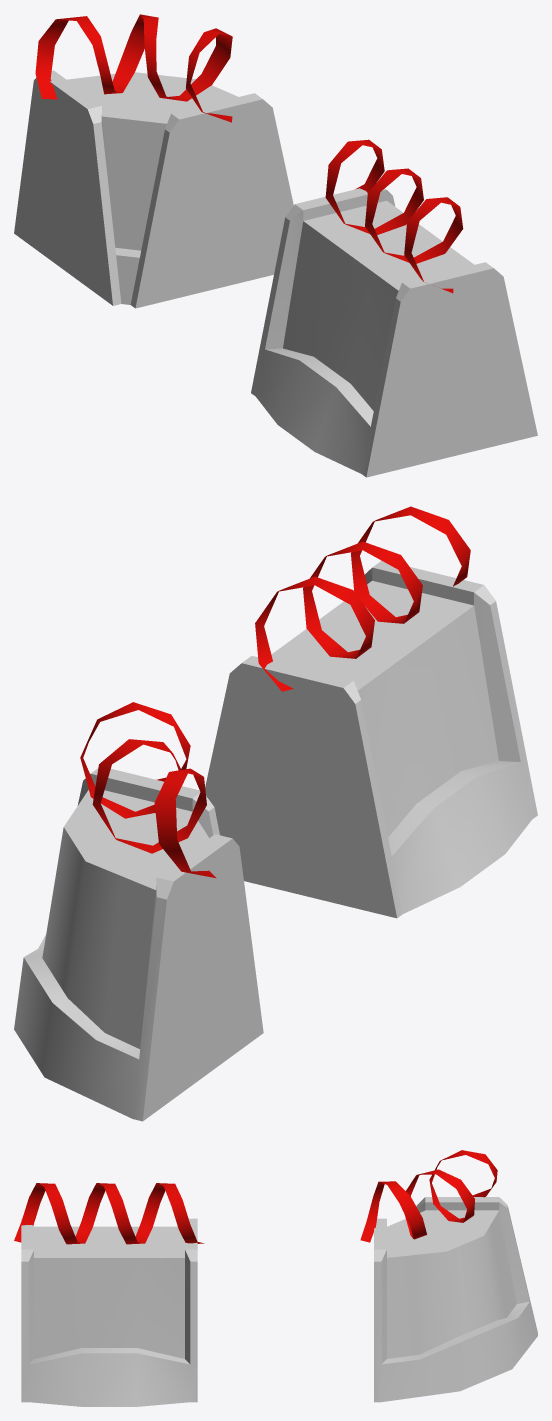
Rendered from Tile_Wall.fbx.
3 views of the same model, one above another, from view 1: azimuth 30°, elevation 25°; view 2: azimuth 150°, elevation 25°; view 3: azimuth 270°, elevation 25° (orthographic). The views are drawn at different scales.
Visible parts, largest first — view 1: Wall-Straight, Wall-Corner; view 2: Wall-Straight, Wall-Corner; view 3: Wall-Straight, Wall-Corner.
Part boxes in pixels (box(x1,y1,x2,y2)): Wall-Straight: box(251, 139, 537, 477); Wall-Corner: box(14, 14, 293, 308); Wall-Straight: box(205, 506, 537, 918); Wall-Corner: box(14, 702, 263, 1121); Wall-Straight: box(14, 1183, 204, 1406); Wall-Corner: box(360, 1150, 537, 1402).
Size of the model in its own units: 1.07 by 1.17 by 2.97.
